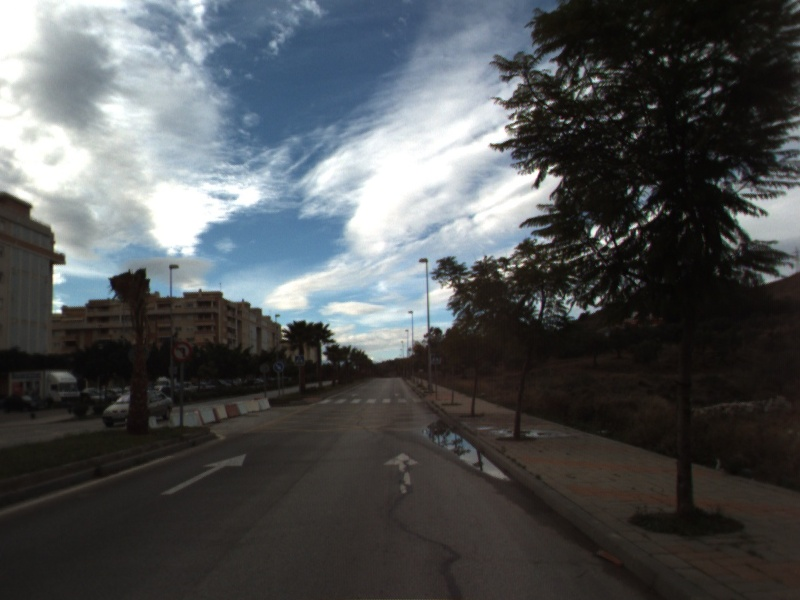STRAIGHT: (158, 451, 249, 497), (382, 450, 424, 496)
